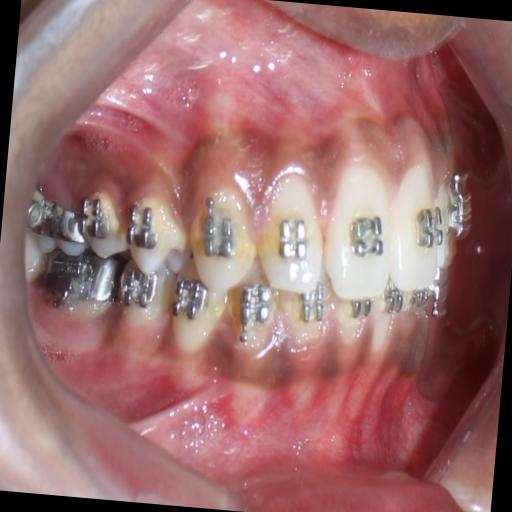correct_brace: (124, 184, 192, 284), (198, 207, 238, 266), (346, 210, 385, 264), (274, 214, 312, 265)
incorrect_brace: (256, 172, 330, 294), (123, 201, 161, 254)
